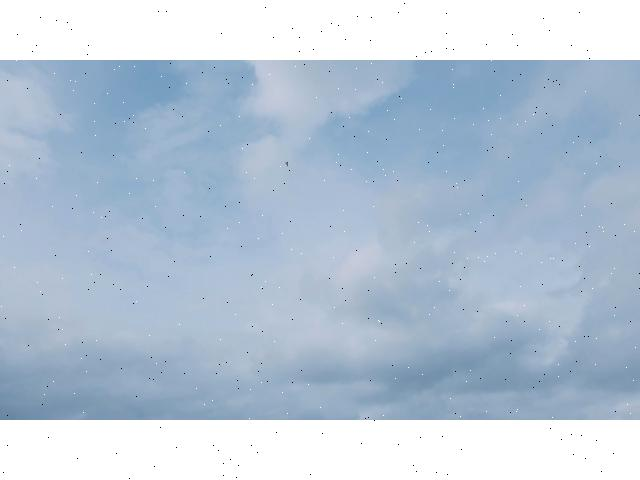Anti-Drone: (281, 159, 293, 171)
